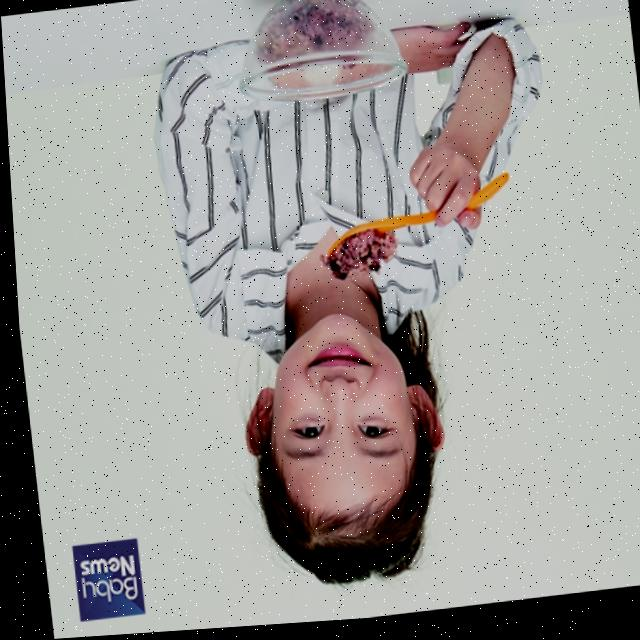eating-person: (117, 0, 596, 628)
